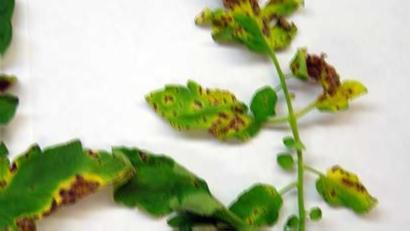Tomato Septoria leaf spot: (0, 126, 131, 231), (138, 73, 259, 142), (186, 0, 301, 49), (313, 164, 384, 230), (219, 179, 279, 231), (312, 74, 371, 117)
